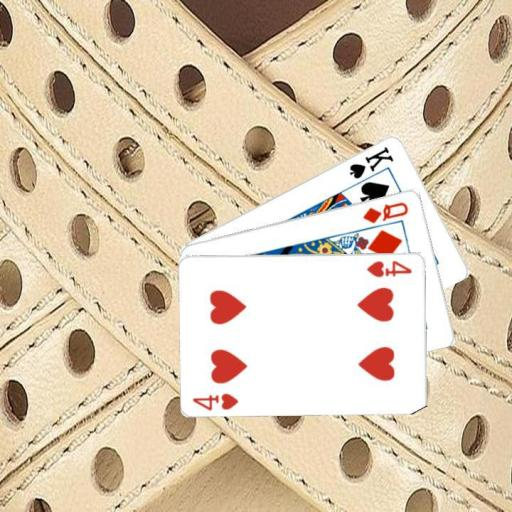4H: (190, 390, 240, 412), (364, 257, 413, 279)
KS: (346, 143, 396, 180)
QD: (360, 198, 410, 225)
